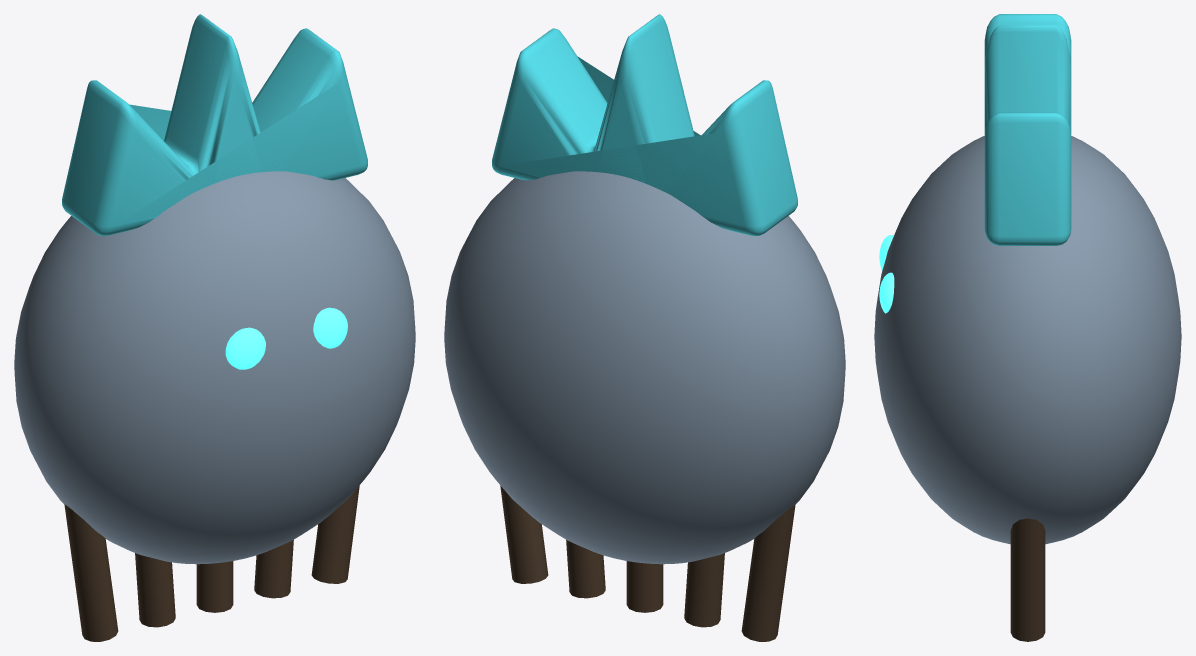
Rendered from ooze_v8.glb.
The picture shows the model from 3 angles, left to right: view 1: azimuth 30°, elevation 25°; view 2: azimuth 150°, elevation 25°; view 3: azimuth 270°, elevation 25°; orthographic projection. The views are drawn at different scales.
Visible parts, largest first — view 1: JELLY_BODY_PRIMARY, JELLY_CROWN_ACCENT, JELLY_TENDRIL_SECONDARY, JELLY_TENDRIL_SECONDARY.004, JELLY_TENDRIL_SECONDARY.001, JELLY_TENDRIL_SECONDARY.002, JELLY_TENDRIL_SECONDARY.003, EYE_EMISSIVE, EYE_EMISSIVE.001; view 2: JELLY_BODY_PRIMARY, JELLY_CROWN_ACCENT, JELLY_TENDRIL_SECONDARY, JELLY_TENDRIL_SECONDARY.004, JELLY_TENDRIL_SECONDARY.001, JELLY_TENDRIL_SECONDARY.002, JELLY_TENDRIL_SECONDARY.003; view 3: JELLY_BODY_PRIMARY, JELLY_CROWN_ACCENT, JELLY_TENDRIL_SECONDARY.004, EYE_EMISSIVE.001.
Boxes of the visible parts, x1,y1,x2,y2 form: JELLY_BODY_PRIMARY: [14, 171, 415, 564]; JELLY_CROWN_ACCENT: [62, 14, 367, 235]; JELLY_TENDRIL_SECONDARY: [64, 504, 118, 641]; JELLY_TENDRIL_SECONDARY.004: [311, 485, 359, 583]; JELLY_TENDRIL_SECONDARY.001: [135, 553, 175, 627]; JELLY_TENDRIL_SECONDARY.002: [196, 561, 233, 612]; JELLY_TENDRIL_SECONDARY.003: [254, 540, 293, 598]; EYE_EMISSIVE: [225, 327, 265, 369]; EYE_EMISSIVE.001: [313, 307, 347, 348]; JELLY_BODY_PRIMARY: [444, 171, 845, 564]; JELLY_CROWN_ACCENT: [492, 14, 797, 235]; JELLY_TENDRIL_SECONDARY: [741, 504, 795, 641]; JELLY_TENDRIL_SECONDARY.004: [500, 485, 548, 583]; JELLY_TENDRIL_SECONDARY.001: [684, 553, 724, 627]; JELLY_TENDRIL_SECONDARY.002: [626, 561, 663, 612]; JELLY_TENDRIL_SECONDARY.003: [566, 540, 605, 598]; JELLY_BODY_PRIMARY: [874, 136, 1181, 544]; JELLY_CROWN_ACCENT: [984, 14, 1071, 245]; JELLY_TENDRIL_SECONDARY.004: [1010, 518, 1045, 641]; EYE_EMISSIVE.001: [879, 272, 894, 313].
Bounding box in the file's own units: 1.64 × 2.48 × 1.24.
